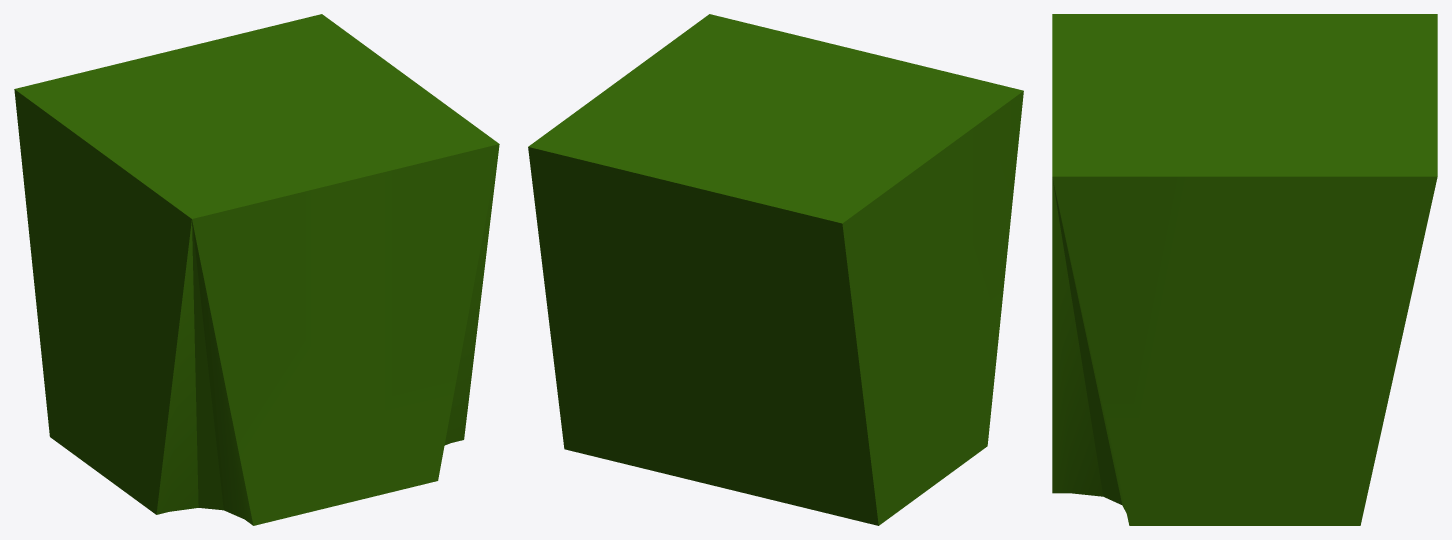
Rendered from Grass_04_C_L.fbx.
The picture shows the model from 3 angles, left to right: view 1: azimuth 30°, elevation 25°; view 2: azimuth 150°, elevation 25°; view 3: azimuth 270°, elevation 25°; orthographic projection. The views are drawn at different scales.
Visible parts, largest first — view 1: 3, 1, 4, 2; view 2: 4, 2, 3, 1; view 3: 1, 2, 3, 4.
Boxes of the visible parts, bbox=[...] form: 3: bbox=[103, 116, 345, 525]; 1: bbox=[257, 79, 499, 503]; 4: bbox=[14, 51, 256, 475]; 2: bbox=[168, 14, 410, 116]; 4: bbox=[685, 119, 933, 525]; 2: bbox=[528, 80, 775, 487]; 3: bbox=[776, 52, 1023, 485]; 1: bbox=[619, 14, 866, 118]; 1: bbox=[1052, 95, 1244, 525]; 2: bbox=[1245, 95, 1437, 525]; 3: bbox=[1052, 14, 1244, 95]; 4: bbox=[1245, 14, 1437, 95].
Bounding box in the file's own units: 200 × 200 × 200.
